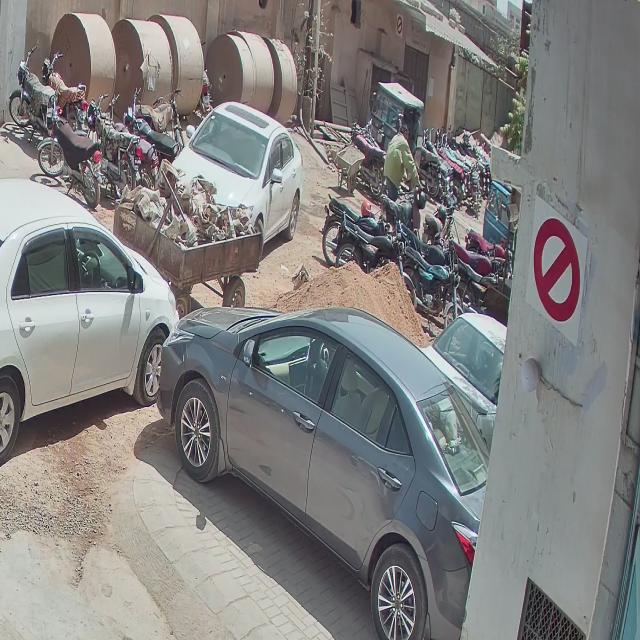bike: (38, 93, 106, 208), (87, 93, 142, 200), (9, 46, 60, 145), (108, 94, 159, 190), (320, 194, 384, 266), (333, 212, 405, 274), (124, 86, 180, 165), (404, 240, 460, 316), (42, 52, 88, 130), (134, 89, 184, 149), (399, 218, 454, 267), (458, 257, 502, 315), (352, 123, 385, 199), (465, 227, 512, 279), (381, 188, 423, 239), (424, 197, 458, 242), (454, 242, 496, 276), (421, 146, 441, 198)
car: (156, 304, 490, 640), (0, 178, 179, 471), (172, 103, 302, 255), (430, 312, 505, 431)
